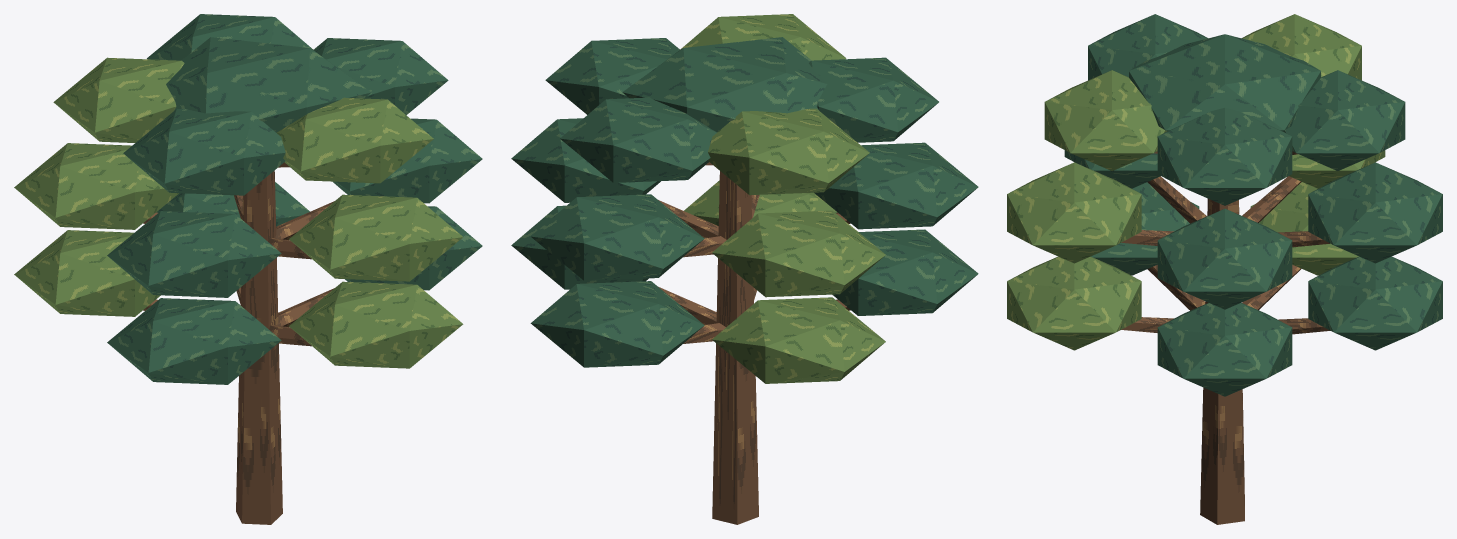
Rendered from arvore-araucaria-v02.gltf.
3 views of the same model, side by side, from view 1: azimuth 30°, elevation 25°; view 2: azimuth 150°, elevation 25°; view 3: azimuth 270°, elevation 25° (orthographic).
Parts seen in each view (by area): view 1: tronco-galhos-copa; view 2: tronco-galhos-copa; view 3: tronco-galhos-copa.
Boxes of the visible parts, left/top/right/bottom form: tronco-galhos-copa: left=14, top=14, right=482, bottom=524; tronco-galhos-copa: left=511, top=14, right=978, bottom=524; tronco-galhos-copa: left=1007, top=14, right=1442, bottom=524.
Bounding box in the file's own units: 3.89 × 4.45 × 3.85.
1 material, 1 textured.
